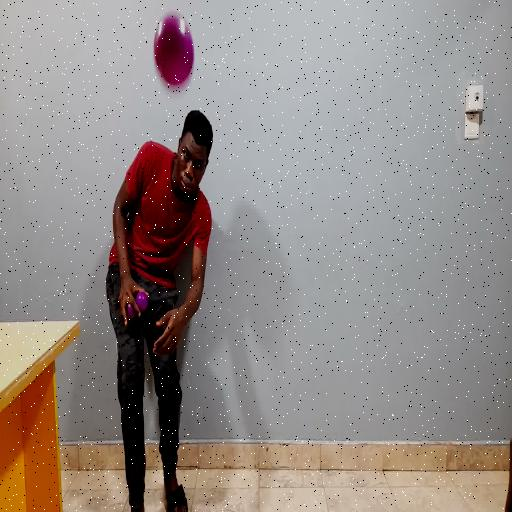plastic-ball: (152, 11, 197, 91)
